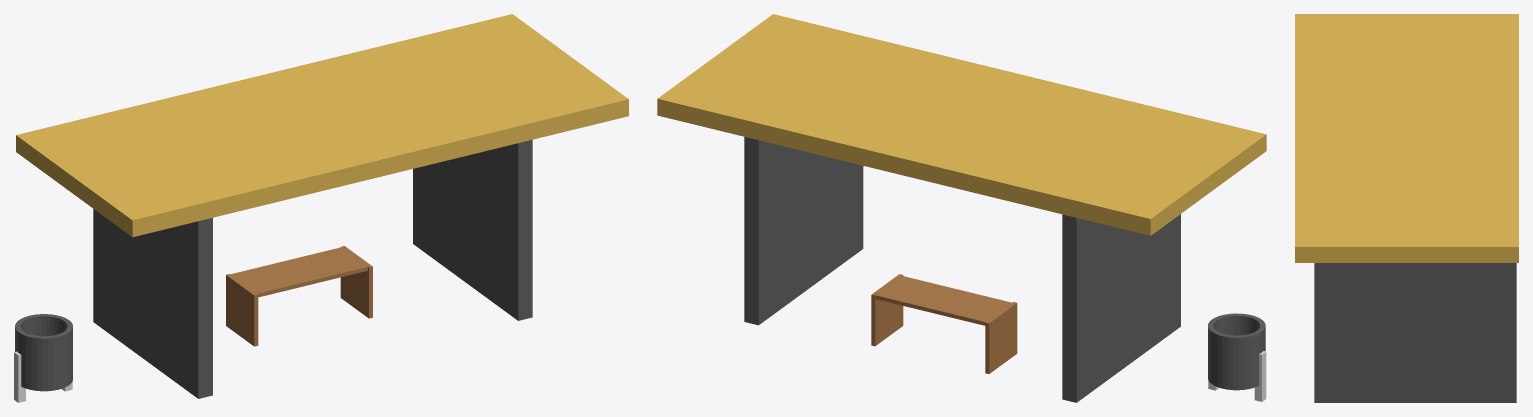
The model's file is przystanek_marzec.fbx.
The picture shows the model from 3 angles, left to right: view 1: azimuth 30°, elevation 25°; view 2: azimuth 150°, elevation 25°; view 3: azimuth 270°, elevation 25°; orthographic projection. The views are drawn at different scales.
Parts seen in each view (by area): view 1: Cube; view 2: Cube; view 3: Cube.
Part boxes in pixels (<box>): Cube: <box>14,14,628,402</box>; Cube: <box>657,14,1266,402</box>; Cube: <box>1295,14,1518,402</box>.
Bounding box in the file's own units: 880 × 333 × 321.
